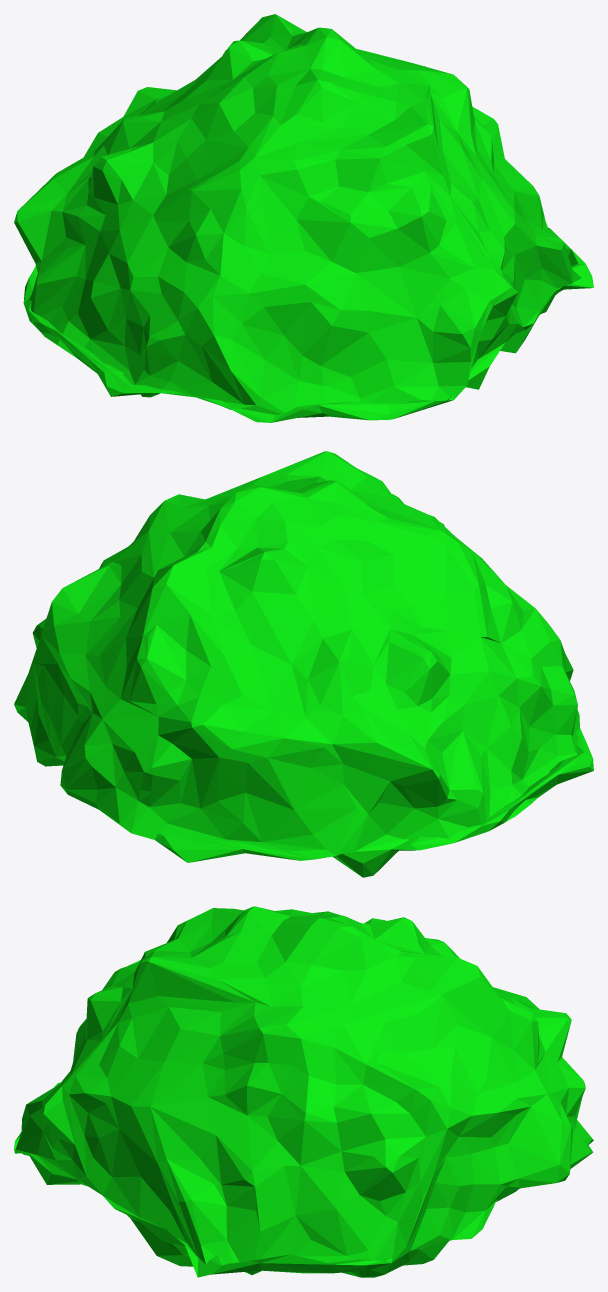
File: bursh.glb
3 renders of one model, top to bottom at view 1: azimuth 30°, elevation 25°; view 2: azimuth 150°, elevation 25°; view 3: azimuth 270°, elevation 25°, orthographic.
Visible parts, largest first — view 1: bursh; view 2: bursh; view 3: bursh.
Boxes of the visible parts, <box> form: bursh: <box>14,14,593,422</box>; bursh: <box>14,451,593,877</box>; bursh: <box>14,906,593,1277</box>.
Bounding box in the file's own units: 1.6 × 0.9104 × 1.65.
